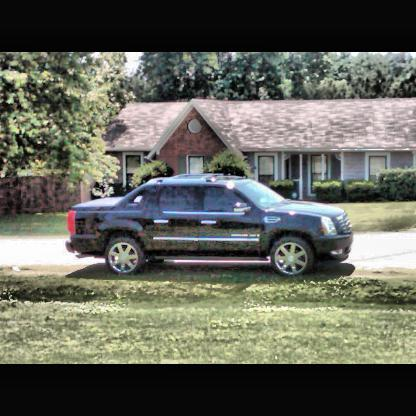Cadillac Escalade EXT Crew Cab 2007: (67, 175, 355, 282)
